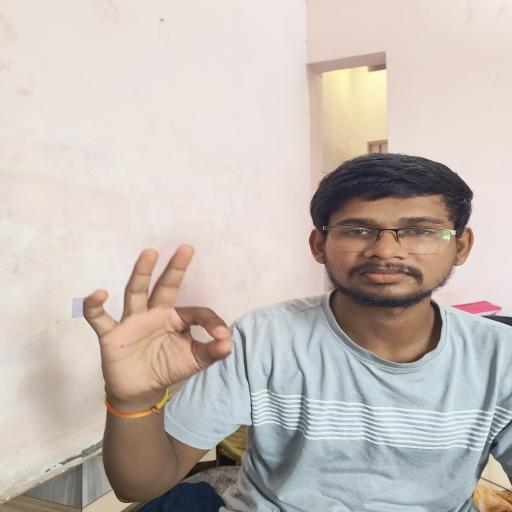Previous: (54, 247, 276, 405)
